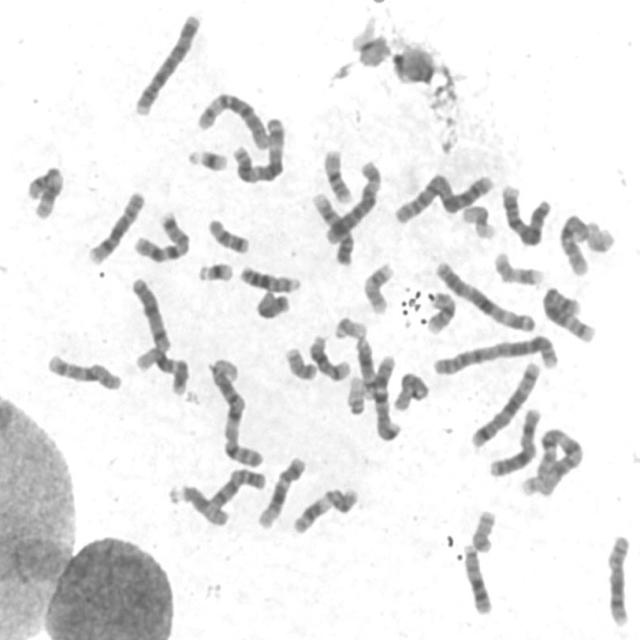A1: (205, 353, 266, 469), (522, 422, 586, 498)
A2: (428, 328, 562, 378), (390, 168, 497, 225)
A3: (429, 255, 538, 334), (228, 112, 288, 184)
B4: (128, 7, 204, 118), (498, 178, 552, 247)
B5: (467, 354, 543, 449), (538, 280, 598, 345)
C10: (42, 348, 124, 393), (555, 207, 593, 278)
C11: (288, 481, 361, 536), (22, 160, 66, 222)
C12: (253, 451, 308, 530), (131, 341, 191, 396)
C6: (321, 154, 384, 245), (192, 86, 272, 150)
C7: (129, 206, 193, 265), (369, 350, 404, 442)
C8: (83, 186, 147, 266), (601, 528, 633, 630)
C9: (308, 186, 356, 268), (200, 465, 272, 516)
D13: (459, 538, 494, 616), (235, 260, 302, 294)
D14: (305, 330, 353, 383), (351, 332, 378, 400)
D15: (165, 479, 231, 528), (385, 364, 432, 417)
E16: (318, 144, 355, 206), (422, 286, 458, 336)
E17: (489, 246, 546, 288), (358, 258, 396, 316)
E18: (202, 213, 252, 255), (250, 283, 292, 321)
F19: (388, 52, 437, 88), (458, 200, 499, 240)
F20: (281, 342, 319, 382), (468, 504, 498, 554)
G21: (183, 142, 231, 174), (193, 256, 236, 284)
G22: (342, 370, 367, 417), (330, 312, 369, 340)
X: (484, 402, 544, 479), (127, 272, 173, 353)
